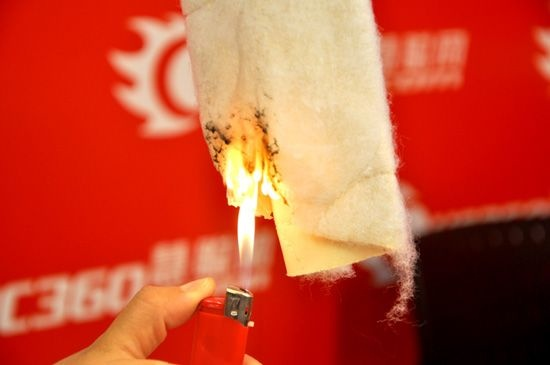fire: (219, 142, 281, 263)
